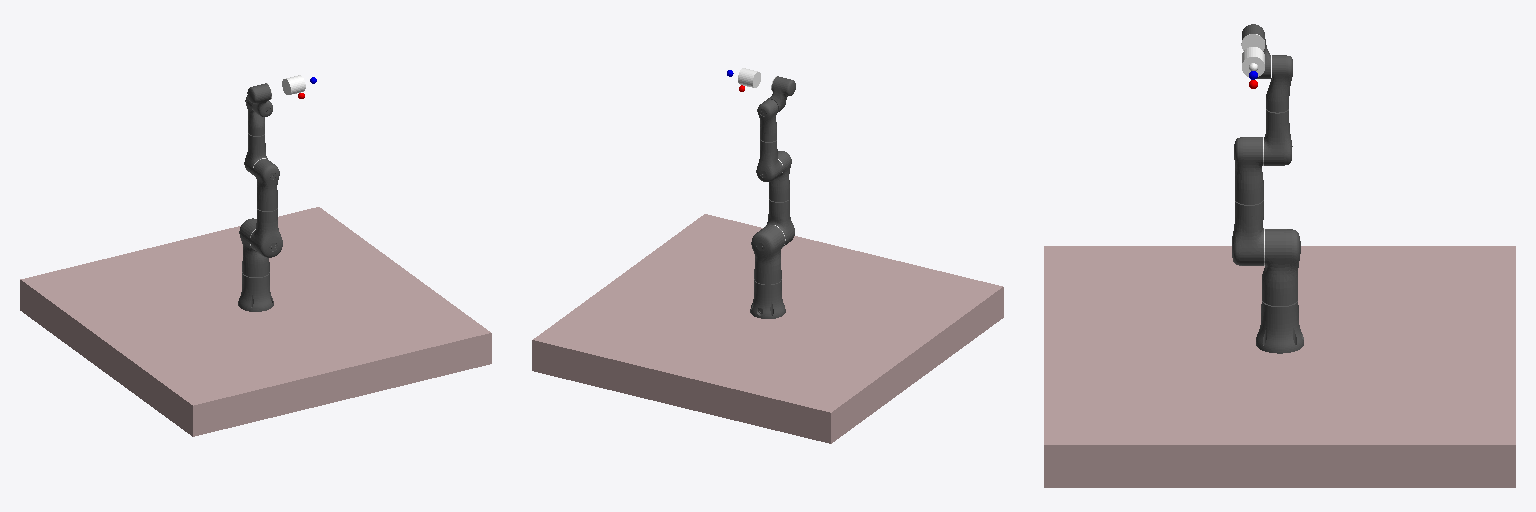
robot.urdf — rizon10s:
<!-- ======================================================================== --><!-- | Flexiv Rizon 10s (with blurred dynamic parameters)                   | --><!-- ======================================================================== -->

<robot name="rizon10s">


  <!--<compiler meshdir="./meshes/" strippath="false" balanceinertia="true" discardvisual="false"/>-->


  <mujoco>
    <compiler meshdir="meshes" strippath="false" balanceinertia="true" discardvisual="false" convexhull="true"/>
  </mujoco>




  <joint name="joint1" type="revolute">
    <parent link="base_link"/>
    <child link="link1"/>
    <origin rpy="0.0 0.0 -3.141592653589793" xyz="0.0 0.0 0.21"/>
    <axis xyz="0 0 1"/>
    <limit effort="261" lower="-2.7925" upper="2.7925" velocity="1.7453"/>
  </joint>
  <joint name="joint2" type="revolute">
    <parent link="link1"/>
    <child link="link2"/>
    <origin rpy="0.0 0.0 0.0" xyz="0.0 0.0675 0.24"/>
    <axis xyz="0 1 0"/>
    <limit effort="261" lower="-2.6704" upper="2.6704" velocity="1.7453"/>
  </joint>
  <joint name="joint3" type="revolute">
    <parent link="link2"/>
    <child link="link3"/>
    <origin rpy="0.0 0.0 0.0" xyz="0.0 0.0625 0.2275"/>
    <axis xyz="0 0 1"/>
    <limit effort="123" lower="-2.7925" upper="2.7925" velocity="2.0944"/>
  </joint>
  <joint name="joint4" type="revolute">
    <parent link="link3"/>
    <child link="link4"/>
    <origin rpy="0.0 0.0 -3.141592653589793" xyz="0.0 -0.0625 0.2225"/>
    <axis xyz="0 1 0"/>
    <limit effort="123" lower="-2.7053" upper="2.7053" velocity="2.0944"/>
  </joint>
  <joint name="joint5" type="revolute">
    <parent link="link4"/>
    <child link="link5"/>
    <origin rpy="0.0 0.0 -3.141592653589793" xyz="0.0 0.0575 0.205"/>
    <axis xyz="0 0 1"/>
    <limit effort="57" lower="-2.9671" upper="2.9671" velocity="3.8397"/>
  </joint>
  <joint name="joint6" type="revolute">
    <parent link="link5"/>
    <child link="link6"/>
    <origin rpy="0.0 0.0 0.0" xyz="0.0 0.03 0.19"/>
    <axis xyz="0 1 0"/>
    <limit effort="57" lower="-1.3963" upper="4.5379" velocity="3.8397"/>
  </joint>
  <joint name="joint7" type="revolute">
    <parent link="link6"/>
    <child link="link7"/>
    <origin rpy="0.0 -1.5707963478683205 0.0" xyz="-0.015 0.073 0.11"/>
    <axis xyz="0 0 1"/>
    <limit effort="57" lower="-2.9671" upper="2.9671" velocity="3.8397"/>
  </joint>
  <joint name="link7_to_flange" type="fixed">
    <parent link="link7"/>
    <child link="flange"/>
    <origin rpy="0.0 0.0 -3.141592653589793" xyz="0.0 0.0 0.124"/>
  </joint>

  <link name="base_link">
    <inertial>
      <mass value="9.2"/>
      <origin rpy="0 0 0" xyz="0.0 -0.0 0.13"/>
      <inertia ixx="0.08" ixy="0.0" ixz="-0.0" iyy="0.08" iyz="0.0" izz="0.04"/>
    </inertial>
    <visual name="shell-0">
      <origin rpy="0 0 0" xyz="0 0 0"/>
      <geometry>
        <mesh filename="rizon10s/visual/v_link0.obj"/>
      </geometry>
      <material name="rizon_dark_grey"/>
    </visual>
    <collision name="c_link0.stl">
      <origin rpy="-3.135731200509898 -0.0070914286865064674 1.7601452401316544" xyz="0.00032891819899692 -0.00036876907392473224 0.07876664364163569"/>
      <geometry>
        <cylinder radius="0.10828695195085732" length="0.10862981656370363"/>
      </geometry>
    </collision>
  <collision_checking><capsule name="c_link0.stl"/></collision_checking></link>
  <link name="link1">
    <inertial>
      <mass value="9.7"/>
      <origin rpy="0 0 0" xyz="0.0 0.03 0.16"/>
      <inertia ixx="0.18" ixy="0.0" ixz="0.0" iyy="0.17" iyz="0.02" izz="0.04"/>
    </inertial>
    <visual name="shell-1">
      <origin rpy="0 0 0" xyz="0 0 0"/>
      <geometry>
        <mesh filename="rizon10s/visual/v_link1.obj"/>
      </geometry>
      <material name="rizon_dark_grey"/>
    </visual>
    <visual name="ring-1">
      <origin rpy="0 0 0" xyz="0 0 -0.0025"/>
      <geometry>
        <mesh filename="rizon10s/visual/v_ring_s1.obj"/>
      </geometry>
      <material name="rizon_white"/>
    </visual>
    <collision name="c_link1.stl">
      <origin rpy="3.1401209981186198 -0.005307839694209449 -2.6006602298211883" xyz="0.00024814527368391225 0.00029127196083683957 0.15303012648186404"/>
      <geometry>
        <cylinder radius="0.11" length="0.1820172995965973"/>
      </geometry>
    </collision>
  <collision_checking><capsule name="c_link1.stl"/></collision_checking></link>
  <link name="link2">
    <inertial>
      <mass value="6.2"/>
      <origin rpy="0 0 0" xyz="0.0 0.03 0.11"/>
      <inertia ixx="0.1" ixy="0.0" ixz="0.0" iyy="0.08" iyz="0.02" izz="0.03"/>
    </inertial>
    <visual name="shell-2">
      <origin rpy="0 0 0" xyz="0 0 0"/>
      <geometry>
        <mesh filename="rizon10s/visual/v_link2.obj"/>
      </geometry>
      <material name="rizon_dark_grey"/>
    </visual>
    <visual name="ring-2">
      <origin rpy="1.5707963 0 0" xyz="0 -0.0025 0"/>
      <geometry>
        <mesh filename="rizon10s/visual/v_ring_s2.obj"/>
      </geometry>
      <material name="rizon_white"/>
    </visual>
    <collision name="c_link2.stl">
      <origin rpy="-0.04126720865260602 -0.005040524508146377 0.00010401917072817447" xyz="-0.0002424301681967157 0.05976210733104183 0.07367088388281477"/>
      <geometry>
        <cylinder radius="0.09838617557444361" length="0.1493152186350586"/>
      </geometry>
    </collision>
  <collision_checking><capsule name="c_link2.stl"/></collision_checking></link>
  <link name="link3">
    <inertial>
      <mass value="4.6"/>
      <origin rpy="0 0 0" xyz="0.0 -0.03 0.17"/>
      <inertia ixx="0.04" ixy="-0.0" ixz="-0.0" iyy="0.03" iyz="-0.01" izz="0.01"/>
    </inertial>
    <visual name="shell-3">
      <origin rpy="0 0 0" xyz="0 0 0"/>
      <geometry>
        <mesh filename="rizon10s/visual/v_link3.obj"/>
      </geometry>
      <material name="rizon_dark_grey"/>
    </visual>
    <visual name="ring-3">
      <origin rpy="0 0 0" xyz="0 0 -0.0025"/>
      <geometry>
        <mesh filename="rizon10s/visual/v_ring_s3.obj"/>
      </geometry>
      <material name="rizon_white"/>
    </visual>
    <collision name="c_link3.stl">
      <origin rpy="-3.110942166794248 0.012942070040906195 -0.7990266024421873" xyz="0.0009435946660551249 -0.003243672501785833 0.13776199595725278"/>
      <geometry>
        <cylinder radius="0.08133934809468238" length="0.17962829931741664"/>
      </geometry>
    </collision>
  <collision_checking><capsule name="c_link3.stl"/></collision_checking></link>
  <link name="link4">
    <inertial>
      <mass value="3.0"/>
      <origin rpy="0 0 0" xyz="-0.0 0.05 0.1"/>
      <inertia ixx="0.03" ixy="0.0" ixz="0.0" iyy="0.03" iyz="0.0" izz="0.01"/>
    </inertial>
    <visual name="shell-4">
      <origin rpy="0 0 0" xyz="0 0 0"/>
      <geometry>
        <mesh filename="rizon10s/visual/v_link4.obj"/>
      </geometry>
      <material name="rizon_dark_grey"/>
    </visual>
    <visual name="ring-4">
      <origin rpy="1.5707963 0 0" xyz="0 -0.0025 0"/>
      <geometry>
        <mesh filename="rizon10s/visual/v_ring_s4.obj"/>
      </geometry>
      <material name="rizon_white"/>
    </visual>
    <collision name="c_link4.stl">
      <origin rpy="-0.04999599865678187 -0.0068829879926115625 0.00017209745747710214" xyz="-0.0005080457137345763 0.05393072897828459 0.06885405527591208"/>
      <geometry>
        <cylinder radius="0.08058945288499701" length="0.14050029766613556"/>
      </geometry>
    </collision>
  <collision_checking><capsule name="c_link4.stl"/></collision_checking></link>
  <link name="link5">
    <inertial>
      <mass value="2.4"/>
      <origin rpy="0 0 0" xyz="0.0 0.01 0.13"/>
      <inertia ixx="0.01" ixy="0.0" ixz="0.0" iyy="0.01" iyz="0.0" izz="0.001"/>
    </inertial>
    <visual name="shell-5">
      <origin rpy="0 0 0" xyz="0 0 0"/>
      <geometry>
        <mesh filename="rizon10s/visual/v_link5.obj"/>
      </geometry>
      <material name="rizon_dark_grey"/>
    </visual>
    <visual name="ring-5">
      <origin rpy="0 0 0" xyz="0 0 -0.0025"/>
      <geometry>
        <mesh filename="rizon10s/visual/v_ring_s5.obj"/>
      </geometry>
      <material name="rizon_white"/>
    </visual>
    <collision name="c_link5.stl">
      <origin rpy="-3.062942439795058 0.0025142117447503054 -0.06387935132241074" xyz="0.0002143888046636051 -0.0062263048590413045 0.1148623027407365"/>
      <geometry>
        <cylinder radius="0.06321103718614053" length="0.1586607128833286"/>
      </geometry>
    </collision>
  <collision_checking><capsule name="c_link5.stl"/></collision_checking></link>
  <link name="link6">
    <inertial>
      <mass value="2.3"/>
      <origin rpy="0 0 0" xyz="0.02 0.06 0.07"/>
      <inertia ixx="0.01" ixy="0.0" ixz="0.0" iyy="0.01" iyz="0.0" izz="0.001"/>
    </inertial>
    <visual name="shell-6">
      <origin rpy="0 0 0" xyz="0 0 0"/>
      <geometry>
        <mesh filename="rizon10s/visual/v_link6.obj"/>
      </geometry>
      <material name="rizon_dark_grey"/>
    </visual>
    <visual name="ring-6">
      <origin rpy="1.5707963 0 0" xyz="0 -0.0025 0"/>
      <geometry>
        <mesh filename="rizon10s/visual/v_ring_s6.obj"/>
      </geometry>
      <material name="rizon_white"/>
    </visual>
    <collision name="c_link6.stl">
      <origin rpy="2.8107047832724485 -0.3512021488559727 -1.6315119697149592" xyz="0.02153718931005263 0.056258354575723396 0.059821353702356424"/>
      <geometry>
        <cylinder radius="0.07271170783548435" length="0.1132427653650164"/>
      </geometry>
    </collision>
  <collision_checking><capsule name="c_link6.stl"/></collision_checking></link>
  <link name="link7">
    <inertial>
      <mass value="1.5"/>
      <origin rpy="0 0 0" xyz="0.0 0.0 0.05"/>
      <!--note: i changed inertia from 0.01 to 0.001 because mujoco simulation was unstable-->
      <inertia ixx="0.01" ixy="0.0" ixz="0.0" iyy="0.01" iyz="0.0" izz="0.01"/>
    </inertial>
    <visual name="shell-7">
      <origin rpy="0 0 0" xyz="0 0 0"/>
      <geometry>
        <mesh filename="rizon10s/visual/v_link7.obj"/>
      </geometry>
      <material name="rizon_dark_grey"/>
    </visual>
    <visual name="ring-7">
      <origin rpy="0 0 0" xyz="0 0 -0.0025"/>
      <geometry>
        <mesh filename="rizon10s/visual/v_ring_s7.obj"/>
      </geometry>
      <material name="rizon_white"/>
    </visual>
    <collision name="c_link7.stl">
      <origin rpy="0.0004100094101540108 -0.0007421483351071068 -1.5214390947093648e-07" xyz="3.4338789721404413e-06 0.00010384113989505138 0.05293979816513525"/>
      <geometry>
        <cylinder radius="0.05225879509988878" length="0.08200182317353522"/>
      </geometry>
    </collision>
  <collision_checking><capsule name="c_link7.stl"/></collision_checking></link>
  <link name="flange"/>


<link name = "gripper" >
<inertial>
      <mass value="0."/>
      <origin rpy="0 0 0" xyz="0.0 0.0 0.055"/>
      <inertia ixx="0.00" ixy="0.0" ixz="0.0" iyy="0.00" iyz="0.0" izz="0.00"/>
</inertial>

    <visual name="ring-7">
      <origin rpy="0 0 0" xyz="0 0 0.05"/>
      <geometry>
      <cylinder radius=".05" length=".1" />
      </geometry>
      <material name="rizon_white"/>
    </visual>


</link>





  <link name="table">
    <visual>
      <geometry>
	<box  size="2 2 .2"/>
      </geometry>
      <material name="custom">
        <color rgba="0.8 0.7 0.7 0.5"/>
      </material>
    </visual>


    <collision>
      <geometry>
	<box  size="2 2 .2"/>
      </geometry>
      <material name="brown"/>
    </collision>


  </link>

  <joint name="table_j" type="fixed">
    <parent link="base_link"/>
    <child link="table"/>
 <origin rpy="0. 0 0." xyz="0 0 -0.11"/>
  </joint>

  <joint name="gripper_j" type="fixed">
    <parent link="flange"/>
    <child link="gripper"/>
    <origin rpy="0. 0 0." xyz="0 0 0"/>
  </joint>




   <link name="gripper_c" >



<visual>

     <geometry>
        <sphere radius="0.02"/>
      </geometry>


<material name="">
        <color rgba="1. 1. 1. 1."/>
</material>



</visual>


<visual>
      <origin rpy="0. 0 0." xyz="0.08 0 0."/>
     <geometry>
        <sphere radius="0.02"/>
      </geometry>

<material name="">
        <color rgba="1. 0. 0. 1."/>
	</material>
</visual>


<visual>
      <origin rpy="0. 0 0." xyz="0.0 0 0.08"/>
     <geometry>
        <sphere radius="0.02"/>
      </geometry>

<material name="">
        <color rgba="0. 0. 1. 1."/>
	</material>
</visual>



<collision>

     <geometry>
        <sphere radius="0.02"/>
      </geometry>


<material name="">
        <color rgba="1. 1. 1. 1."/>
</material>



</collision>


<collision>
      <origin rpy="0. 0 0." xyz="0.08 0 0."/>
     <geometry>
        <sphere radius="0.02"/>
      </geometry>

<material name="">
        <color rgba="1. 0. 0. 1."/>
	</material>
</collision>


<collision>
      <origin rpy="0. 0 0." xyz="0.0 0 0.14"/>
     <geometry>
        <sphere radius="0.02"/>
      </geometry>

<material name="">
        <color rgba="0. 0. 1. 1."/>
	</material>
</collision>



</link>


  <joint name="gripper_c_j" type="fixed">
    <parent link="gripper"/>
    <child link="gripper_c"/>
    <origin rpy="0. 0 0." xyz="0 0 .10"/>
  </joint>



  <material name="brown">
        <color rgba="0.8 0.7 0.7 0.5"/>
  </material>

  <material name="rizon_light_grey">
    <color rgba="0.7 0.7 0.7 1.0"/>
  </material>
  <material name="rizon_dark_grey">
    <color rgba="0.4 0.4 0.4 1.0"/>
  </material>
  <material name="rizon_white">
    <color rgba="1.0 1.0 1.0 1.0"/>
  </material>
</robot>

--- Render facts (derived) ---
Views: 3 orthographic renders of the robot side by side, from view 1: azimuth 30°, elevation 25°; view 2: azimuth 150°, elevation 25°; view 3: azimuth 270°, elevation 25°.
Model rizon10s with 12 links and 11 joints (7 revolute, 4 fixed), rooted at base_link, posed all joints at 0.
Visible links, largest first — view 1: table, link2, link3, base_link, link1, link6, link4; view 2: table, link1, base_link, link4, link2, link3, link5, link6; view 3: table, link1, base_link, link2, link3, link4, link5.
Boxes of the visible links, <box> form: table: <box>20,207,491,436</box>; link2: <box>250,208,282,257</box>; link3: <box>253,159,279,210</box>; base_link: <box>238,272,273,311</box>; link1: <box>239,218,269,276</box>; link6: <box>247,83,272,116</box>; link4: <box>244,133,267,174</box>; table: <box>532,214,1003,443</box>; link1: <box>751,225,784,284</box>; base_link: <box>750,279,785,318</box>; link4: <box>756,139,782,181</box>; link2: <box>765,199,794,247</box>; link3: <box>769,151,791,201</box>; link5: <box>757,99,777,141</box>; link6: <box>768,76,795,111</box>; table: <box>1044,246,1515,487</box>; link1: <box>1262,229,1300,305</box>; base_link: <box>1256,301,1303,353</box>; link2: <box>1232,200,1264,265</box>; link3: <box>1234,137,1263,204</box>; link4: <box>1263,109,1292,165</box>; link5: <box>1266,55,1292,112</box>.
Size in the robot's own frame: 2 by 2 by 1.67 metres.
10 mesh visuals loaded from 15 distinct referenced files (10 OBJ); not drawn: 5 (reference not matched to a file when rendering).